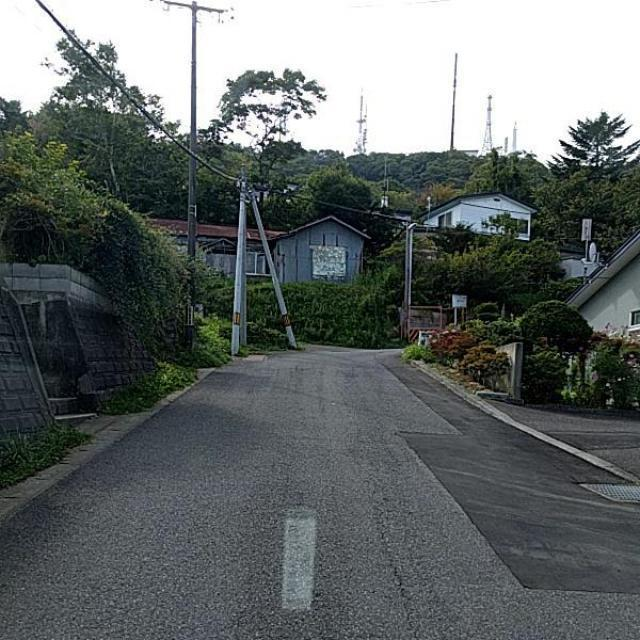Sambungan: (378, 354, 637, 595)
